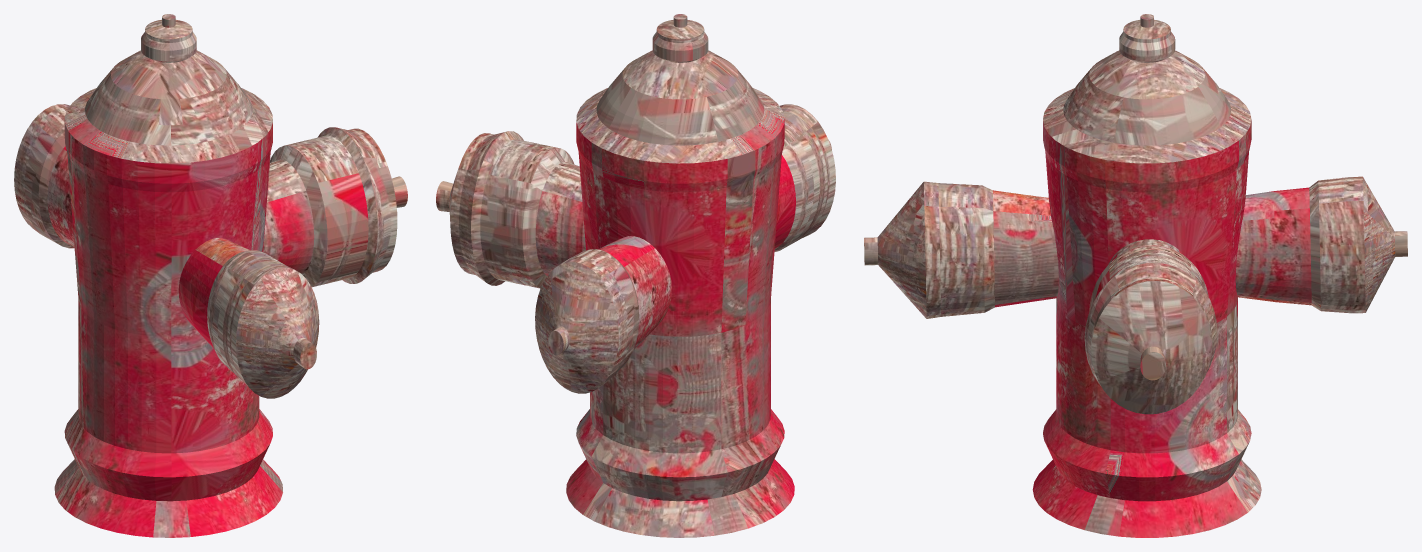
File: Hydrant1.fbx
3 views of the same model, side by side, from view 1: azimuth 30°, elevation 25°; view 2: azimuth 150°, elevation 25°; view 3: azimuth 270°, elevation 25° (orthographic).
Parts seen in each view (by area): view 1: Cylinder; view 2: Cylinder; view 3: Cylinder.
Boxes of the visible parts, x1,y1,x2,y2 form: Cylinder: (14, 14, 407, 537); Cylinder: (436, 14, 835, 537); Cylinder: (864, 14, 1407, 537).
Size of the model in its own units: 267 by 361 by 376.
Materials: 1 (1 with a texture image).
